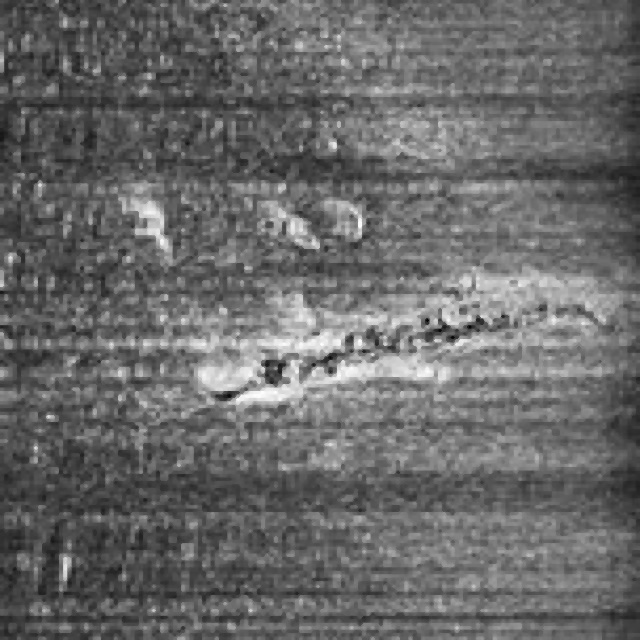Ship: (208, 271, 624, 425)
